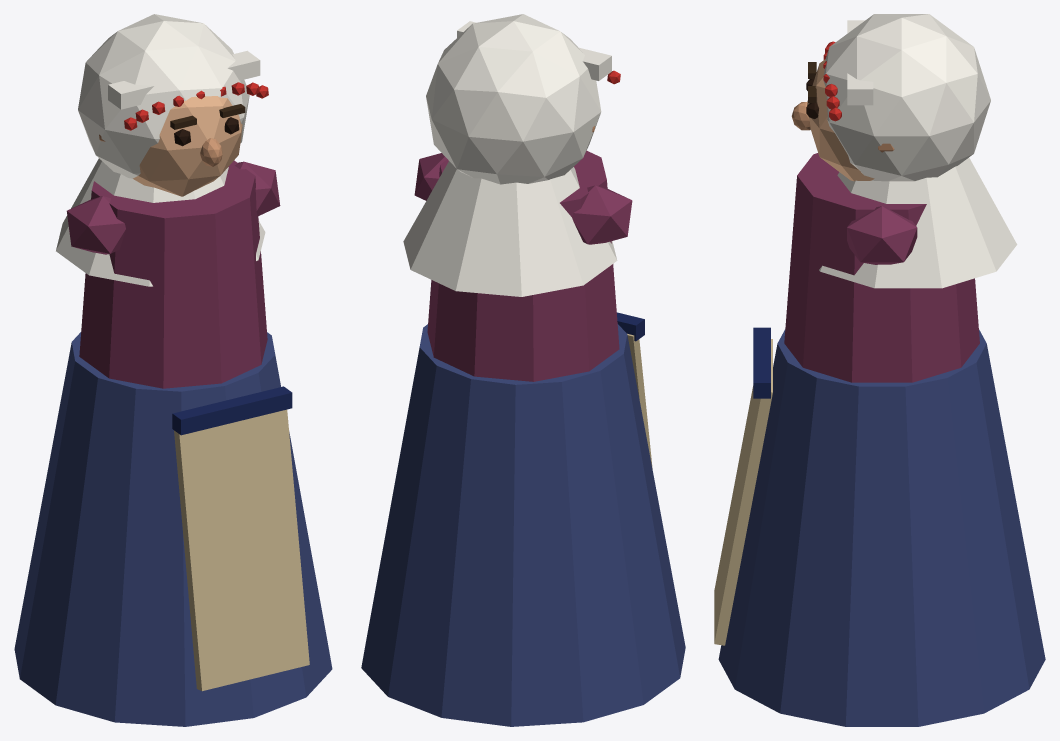
The model's file is insan_k0_govde.glb.
3 views of the same model, side by side, from view 1: azimuth 30°, elevation 25°; view 2: azimuth 150°, elevation 25°; view 3: azimuth 270°, elevation 25° (orthographic). The views are drawn at different scales.
Visible parts, largest first — view 1: Cone; view 2: Cone; view 3: Cone.
Boxes of the visible parts, x1,y1,x2,y2 form: Cone: (14, 14, 332, 726); Cone: (361, 14, 685, 726); Cone: (714, 14, 1045, 726).
Bounding box in the file's own units: 0.1462 × 0.3248 × 0.152.
